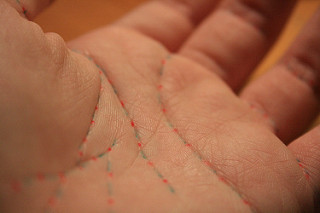palm: (32, 37, 296, 205)
